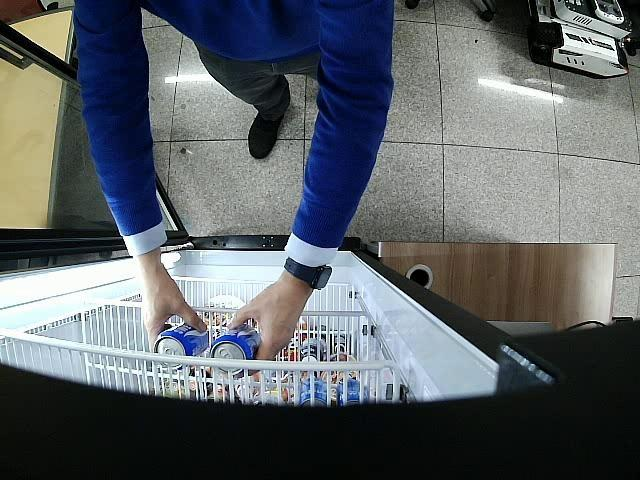13_pocariSweat: (210, 324, 260, 376), (155, 322, 209, 369)
